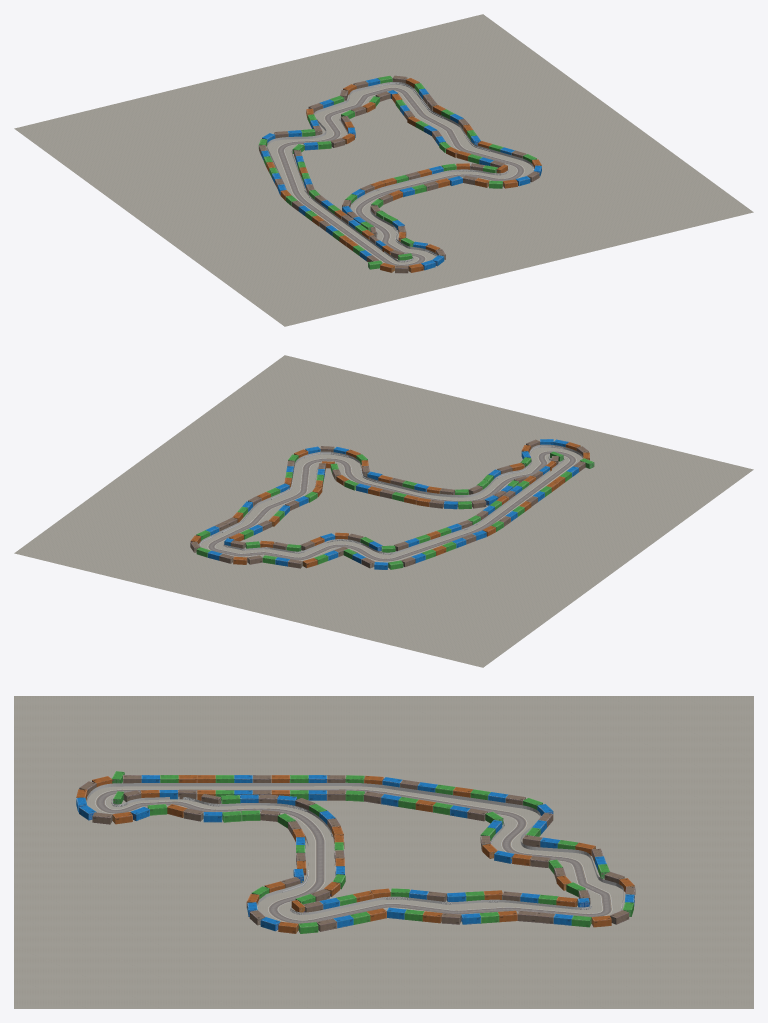
File: Track-5.fbx
3 views of the same model, one above another, from view 1: azimuth 30°, elevation 25°; view 2: azimuth 150°, elevation 25°; view 3: azimuth 270°, elevation 25° (orthographic). The views are drawn at different scales.
Parts seen in each view (by area): view 1: pPlane1, Blue51, Racetrack, Wall1, Wall2; view 2: pPlane1, Blue51, Racetrack, Wall1, Wall2; view 3: pPlane1, Blue51, Racetrack, Wall1, Wall2.
Boxes of the visible parts, x1,y1,x2,y2 form: pPlane1: (14, 14, 753, 326); Blue51: (258, 75, 541, 273); Racetrack: (277, 87, 524, 265); Wall1: (267, 82, 533, 256); Wall2: (292, 117, 508, 262); pPlane1: (14, 355, 753, 667); Blue51: (190, 439, 594, 569); Racetrack: (207, 451, 576, 561); Wall1: (199, 444, 582, 557); Wall2: (224, 455, 563, 553); pPlane1: (14, 696, 753, 1008); Blue51: (76, 771, 635, 933); Racetrack: (95, 789, 612, 923); Wall1: (86, 782, 623, 913); Wall2: (112, 794, 590, 914).
Size of what is drawn, in the model's own units: 181187 by 1800 by 181187.
